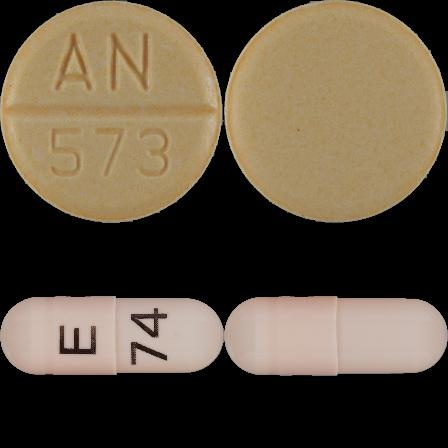68084-704: (0, 0, 224, 224)
